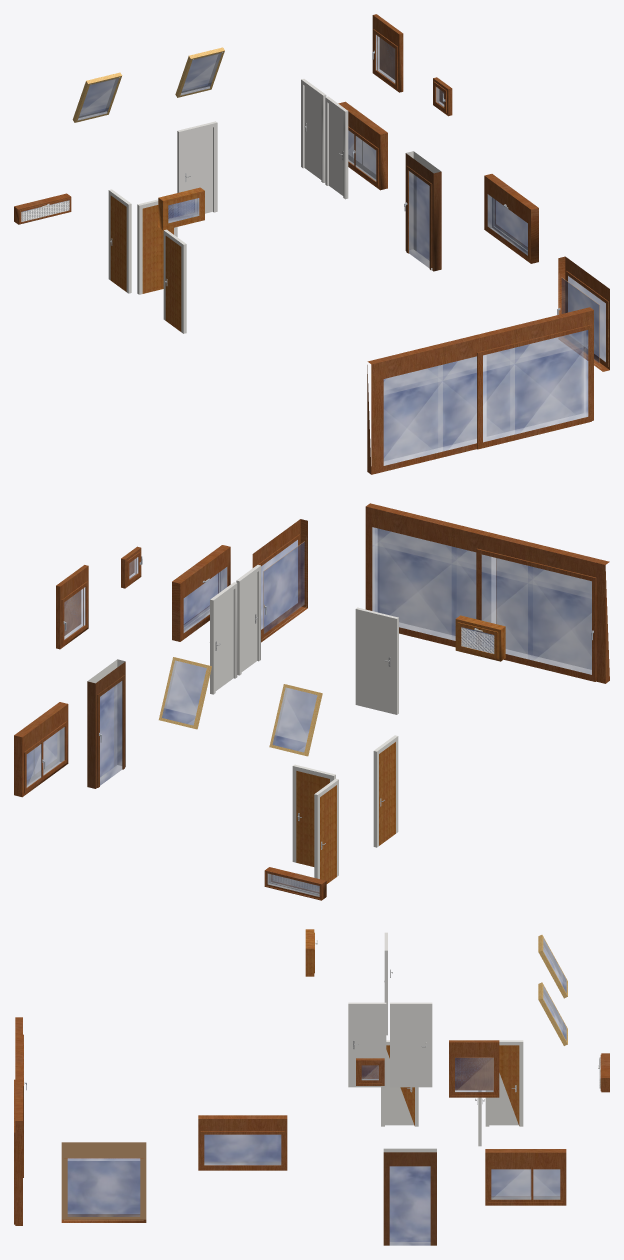
Rendered from mobilier.glb.
The picture shows the model from 3 angles, top to bottom: view 1: azimuth 30°, elevation 25°; view 2: azimuth 150°, elevation 25°; view 3: azimuth 270°, elevation 25°; orthographic projection. The views are drawn at different scales.
Parts seen in each view (by area): view 1: rez__baie_vitree, rez__element_mural, rez__fenetre_salon_grande, rez__Fenetre_salon_haute, etage__porte_dressing, rez__fenetre_chambre_coucher, rez__porte_interieure_98_(80), etage__porte_chambre_etage, rez__porte_interieure_88x218, rez__porte_interieure_88x218_2, etage__porte_douche_etage, etage__Fenetre_chambre_etage (+4 smaller); view 2: rez__baie_vitree, rez__fenetre_salon_grande, rez__element_mural, etage__porte_dressing, rez__fenetre_chambre_coucher, rez__Fenetre_salon_haute, etage__porte_chambre_etage, etage__Velux, etage__Velux_2, rez__porte_interieure_88x218_2, rez__porte_interieure_98_(80), rez__porte_interieure_88x218 (+5 smaller); view 3: rez__fenetre_salon_grande, rez__element_mural, rez__Fenetre_salon_haute, rez__fenetre_chambre_coucher, etage__porte_chambre_etage, etage__Fenetre_chambre_etage, etage__porte_douche_etage, rez__porte_interieure_88x218, rez__baie_vitree, rez__porte_interieure_88x218_2, etage__fenetre_douche_etage, etage__Velux_2 (+3 smaller).
Boxes of the visible parts, x1,y1,x2,y2 form: rez__baie_vitree: (367, 307, 593, 474); rez__element_mural: (404, 151, 441, 271); rez__fenetre_salon_grande: (557, 256, 609, 371); rez__Fenetre_salon_haute: (484, 174, 538, 263); etage__porte_dressing: (177, 121, 217, 213); rez__fenetre_chambre_coucher: (338, 101, 387, 190); rez__porte_interieure_98_(80): (137, 199, 177, 294); etage__porte_chambre_etage: (301, 79, 326, 182); rez__porte_interieure_88x218: (108, 189, 131, 293); rez__porte_interieure_88x218_2: (163, 229, 186, 333); etage__porte_douche_etage: (325, 96, 348, 199); etage__Fenetre_chambre_etage: (372, 14, 403, 92); rez__baie_vitree: (365, 503, 609, 683); rez__fenetre_salon_grande: (252, 519, 307, 642); rez__element_mural: (87, 659, 125, 788); etage__porte_dressing: (355, 607, 398, 714); rez__fenetre_chambre_coucher: (14, 702, 68, 797); rez__Fenetre_salon_haute: (172, 545, 230, 641); etage__porte_chambre_etage: (210, 582, 237, 694); etage__Velux: (158, 657, 211, 729); etage__Velux_2: (269, 684, 322, 756); rez__porte_interieure_88x218_2: (373, 735, 398, 847); rez__porte_interieure_98_(80): (292, 764, 335, 866); rez__porte_interieure_88x218: (314, 778, 338, 883); rez__fenetre_salon_grande: (61, 1142, 146, 1222); rez__element_mural: (383, 1148, 436, 1245); rez__Fenetre_salon_haute: (198, 1115, 287, 1170); rez__fenetre_chambre_coucher: (485, 1149, 566, 1205); etage__porte_chambre_etage: (390, 1002, 432, 1087); etage__Fenetre_chambre_etage: (449, 1040, 499, 1097); etage__porte_douche_etage: (348, 1002, 386, 1087); rez__porte_interieure_88x218: (485, 1040, 523, 1126); rez__baie_vitree: (14, 1017, 26, 1225); rez__porte_interieure_88x218_2: (381, 1040, 418, 1126); etage__fenetre_douche_etage: (356, 1058, 384, 1085); etage__Velux_2: (538, 935, 567, 998).
Bounding box in the file's own units: 8.2 × 5.18 × 13.89.
Materials: 22 (14 with a texture image).
